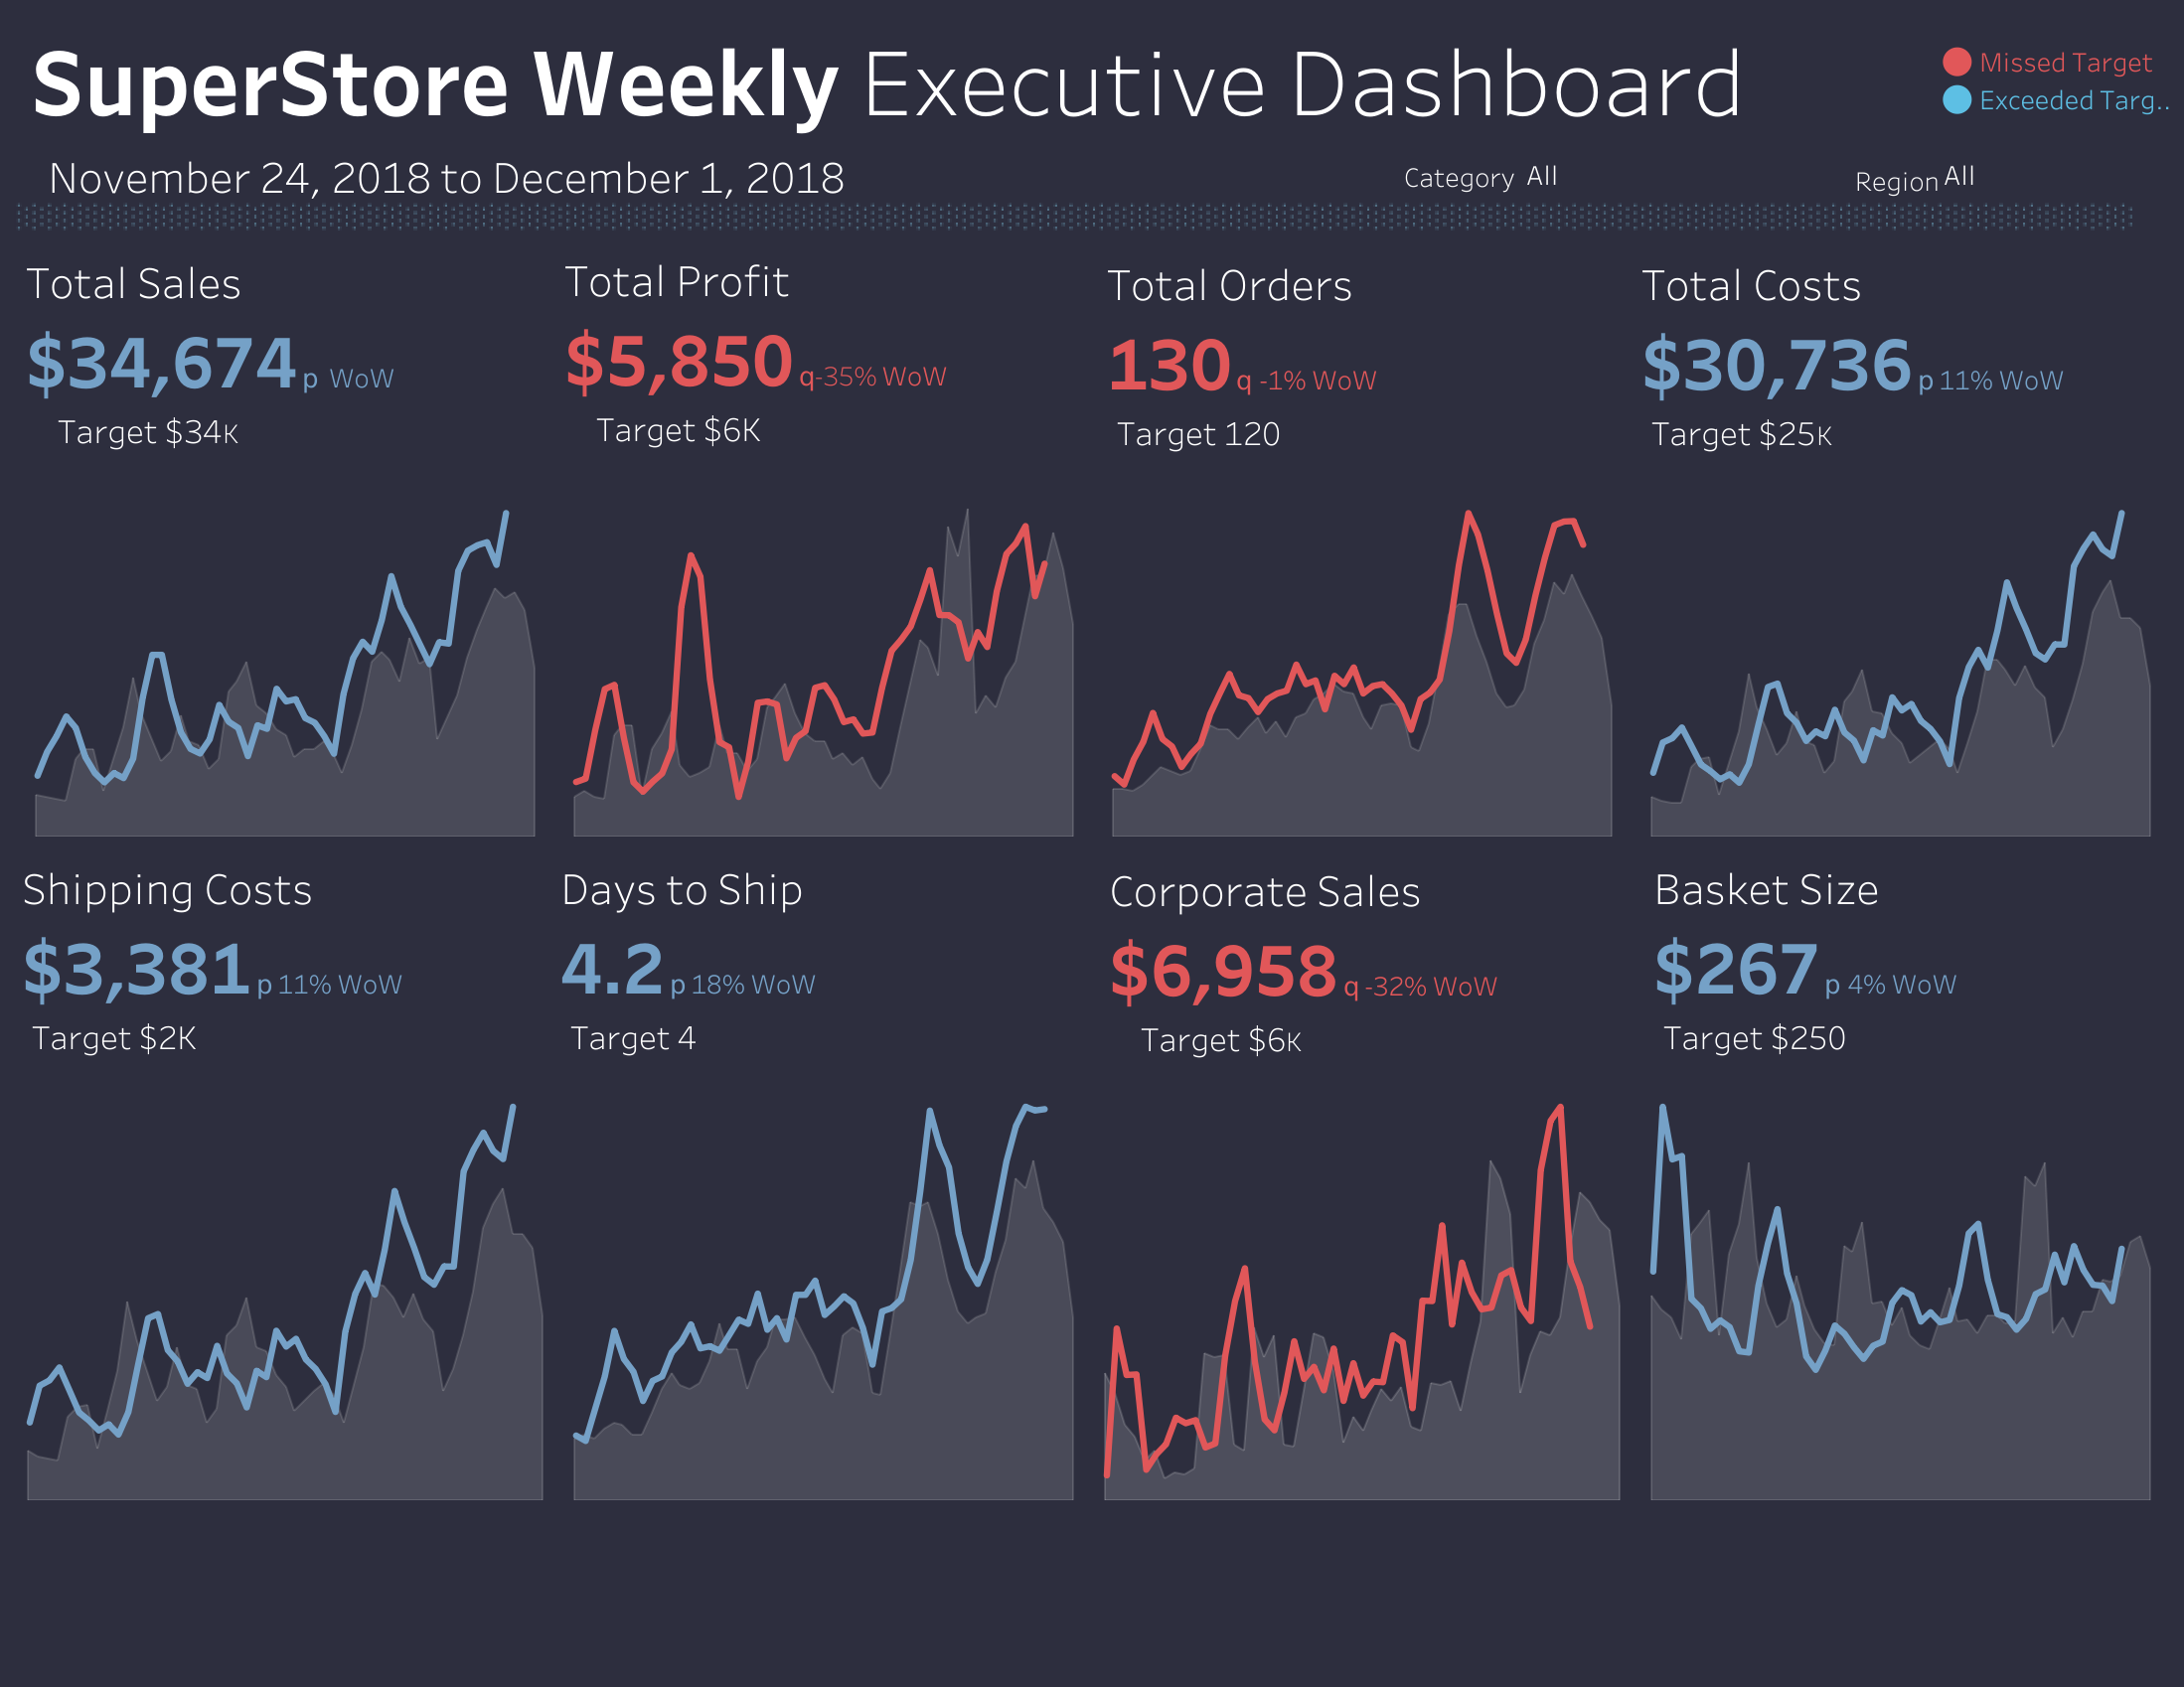

This screenshot's page, from the dashboard's own definition file:
{"tool":"tableau","page":{"name":"1 KPI Dashboard","canvas":[1100,850],"ordinal":0},"visuals":[{"type":"text","box":[8,8,1084,236]},{"type":"text","box":[974,11,121,34]},{"type":"text","box":[974,32,122,30]},{"type":"worksheet","title":"Date","mark":"Automatic","box":[20,73,584,36]},{"type":"text","box":[665,77,100,23]},{"type":"filter","title":"Sales Time","param":"[Sample - Superstore].[none:Category:nk]","box":[766,78,114,24]},{"type":"filter","title":"Sales KPI","param":"[Sample - Superstore].[none:Region:nk]","box":[904,78,189,24]},{"type":"image","param":"Image/Border5.png","box":[7,102,1083,14]},{"type":"worksheet","title":"Profit KPI","mark":"Automatic","cols":["Calculation_122230518285139968"],"box":[280,117,267,119]},{"type":"worksheet","title":"Sales KPI","mark":"Automatic","cols":["Calculation_122230518285139968"],"box":[9,118,267,119]},{"type":"worksheet","title":"Orders KPI","mark":"Automatic","cols":["Calculation_122230518285139968"],"box":[553,119,267,119]},{"type":"worksheet","title":"Costs KPI","mark":"Automatic","cols":["Calculation_122230518285139968"],"box":[822,119,267,119]},{"type":"worksheet","title":"Sales Time","mark":"Automatic","rows":["Calculation_122230518365425668","2017 Sales (copy)"],"cols":["Order Date"],"box":[8,244,271,181]},{"type":"worksheet","title":"Profit Time","mark":"Automatic","rows":["2017 Sales (copy 2)","2018 Sales (copy)"],"cols":["Order Date"],"box":[278.9,244,271,181]},{"type":"worksheet","title":"Order Time","mark":"Automatic","rows":["2017 Profit (copy)","2018 Profit (copy)"],"cols":["Order Date"],"box":[550,244,271,181]},{"type":"worksheet","title":"Costs Time","mark":"Automatic","rows":["2017 Orders (copy)","2017 Orders (copy) (copy)"],"cols":["Order Date"],"box":[820.9,244,271.1,181]},{"type":"worksheet","title":"Shipping Cost KPI","mark":"Automatic","cols":["Calculation_122230518285139968"],"box":[7,423,267,119]},{"type":"worksheet","title":"Discount KPI2","mark":"Automatic","cols":["Calculation_122230518285139968"],"box":[278,423,267,119]},{"type":"worksheet","title":"Basket Size KPI","mark":"Automatic","cols":["Calculation_122230518285139968"],"box":[828,423,267,119]},{"type":"worksheet","title":"Corp Sales KPI","mark":"Automatic","cols":["Calculation_122230518285139968"],"box":[554,424,267,119]},{"type":"blank","box":[8,425,1084,116]},{"type":"worksheet","title":"Shipping Cost Time","mark":"Automatic","rows":["2017 Costs (copy 2)","2018 Costs (copy)"],"cols":["Order Date"],"box":[8,541,271,218]},{"type":"worksheet","title":"Days to Ship Time","mark":"Automatic","rows":["2017 Costs (copy)","2017 Discount (copy)"],"cols":["Order Date"],"box":[279,541,271,218]},{"type":"worksheet","title":"Corp Sales Time","mark":"Automatic","rows":["Calculation_122230518365425668","2017 Sales (copy)"],"cols":["Order Date"],"box":[550,541,271,218]},{"type":"worksheet","title":"Basekt Size Time","mark":"Automatic","rows":["Calculation_122230518365425668","2017 Sales (copy)"],"cols":["Order Date"],"box":[820.9,541,271.1,218]},{"type":"blank","box":[8,759,1084,83]}]}

Visuals, with their boxes in screenshot pixels (x1, y1, x2, y2), scaled from the page's 1100x850 canvas onto the 2184x1687 screenshot:
text: region(16, 16, 2168, 484)
text: region(1934, 22, 2174, 89)
text: region(1934, 64, 2176, 123)
"Date" worksheet: region(40, 145, 1199, 217)
text: region(1321, 153, 1519, 199)
"Sales Time" filter: region(1521, 155, 1747, 203)
"Sales KPI" filter: region(1794, 155, 2170, 203)
image: region(14, 203, 2164, 230)
"Profit KPI" worksheet: region(555, 232, 1086, 468)
"Sales KPI" worksheet: region(18, 234, 547, 470)
"Orders KPI" worksheet: region(1098, 236, 1629, 472)
"Costs KPI" worksheet: region(1633, 236, 2162, 472)
"Sales Time" worksheet: region(16, 484, 553, 843)
"Profit Time" worksheet: region(553, 484, 1092, 843)
"Order Time" worksheet: region(1092, 484, 1631, 843)
"Costs Time" worksheet: region(1630, 484, 2168, 843)
"Shipping Cost KPI" worksheet: region(14, 840, 545, 1076)
"Discount KPI2" worksheet: region(551, 840, 1082, 1076)
"Basket Size KPI" worksheet: region(1643, 840, 2174, 1076)
"Corp Sales KPI" worksheet: region(1100, 842, 1631, 1078)
blank: region(16, 843, 2168, 1074)
"Shipping Cost Time" worksheet: region(16, 1074, 553, 1506)
"Days to Ship Time" worksheet: region(553, 1074, 1092, 1506)
"Corp Sales Time" worksheet: region(1092, 1074, 1631, 1506)
"Basekt Size Time" worksheet: region(1630, 1074, 2168, 1506)
blank: region(16, 1506, 2168, 1671)
